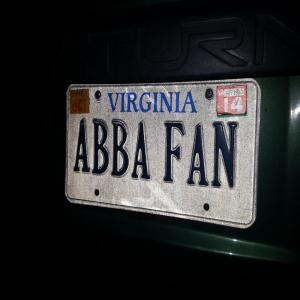Vehicle-registration-plate: (66, 78, 262, 230)
